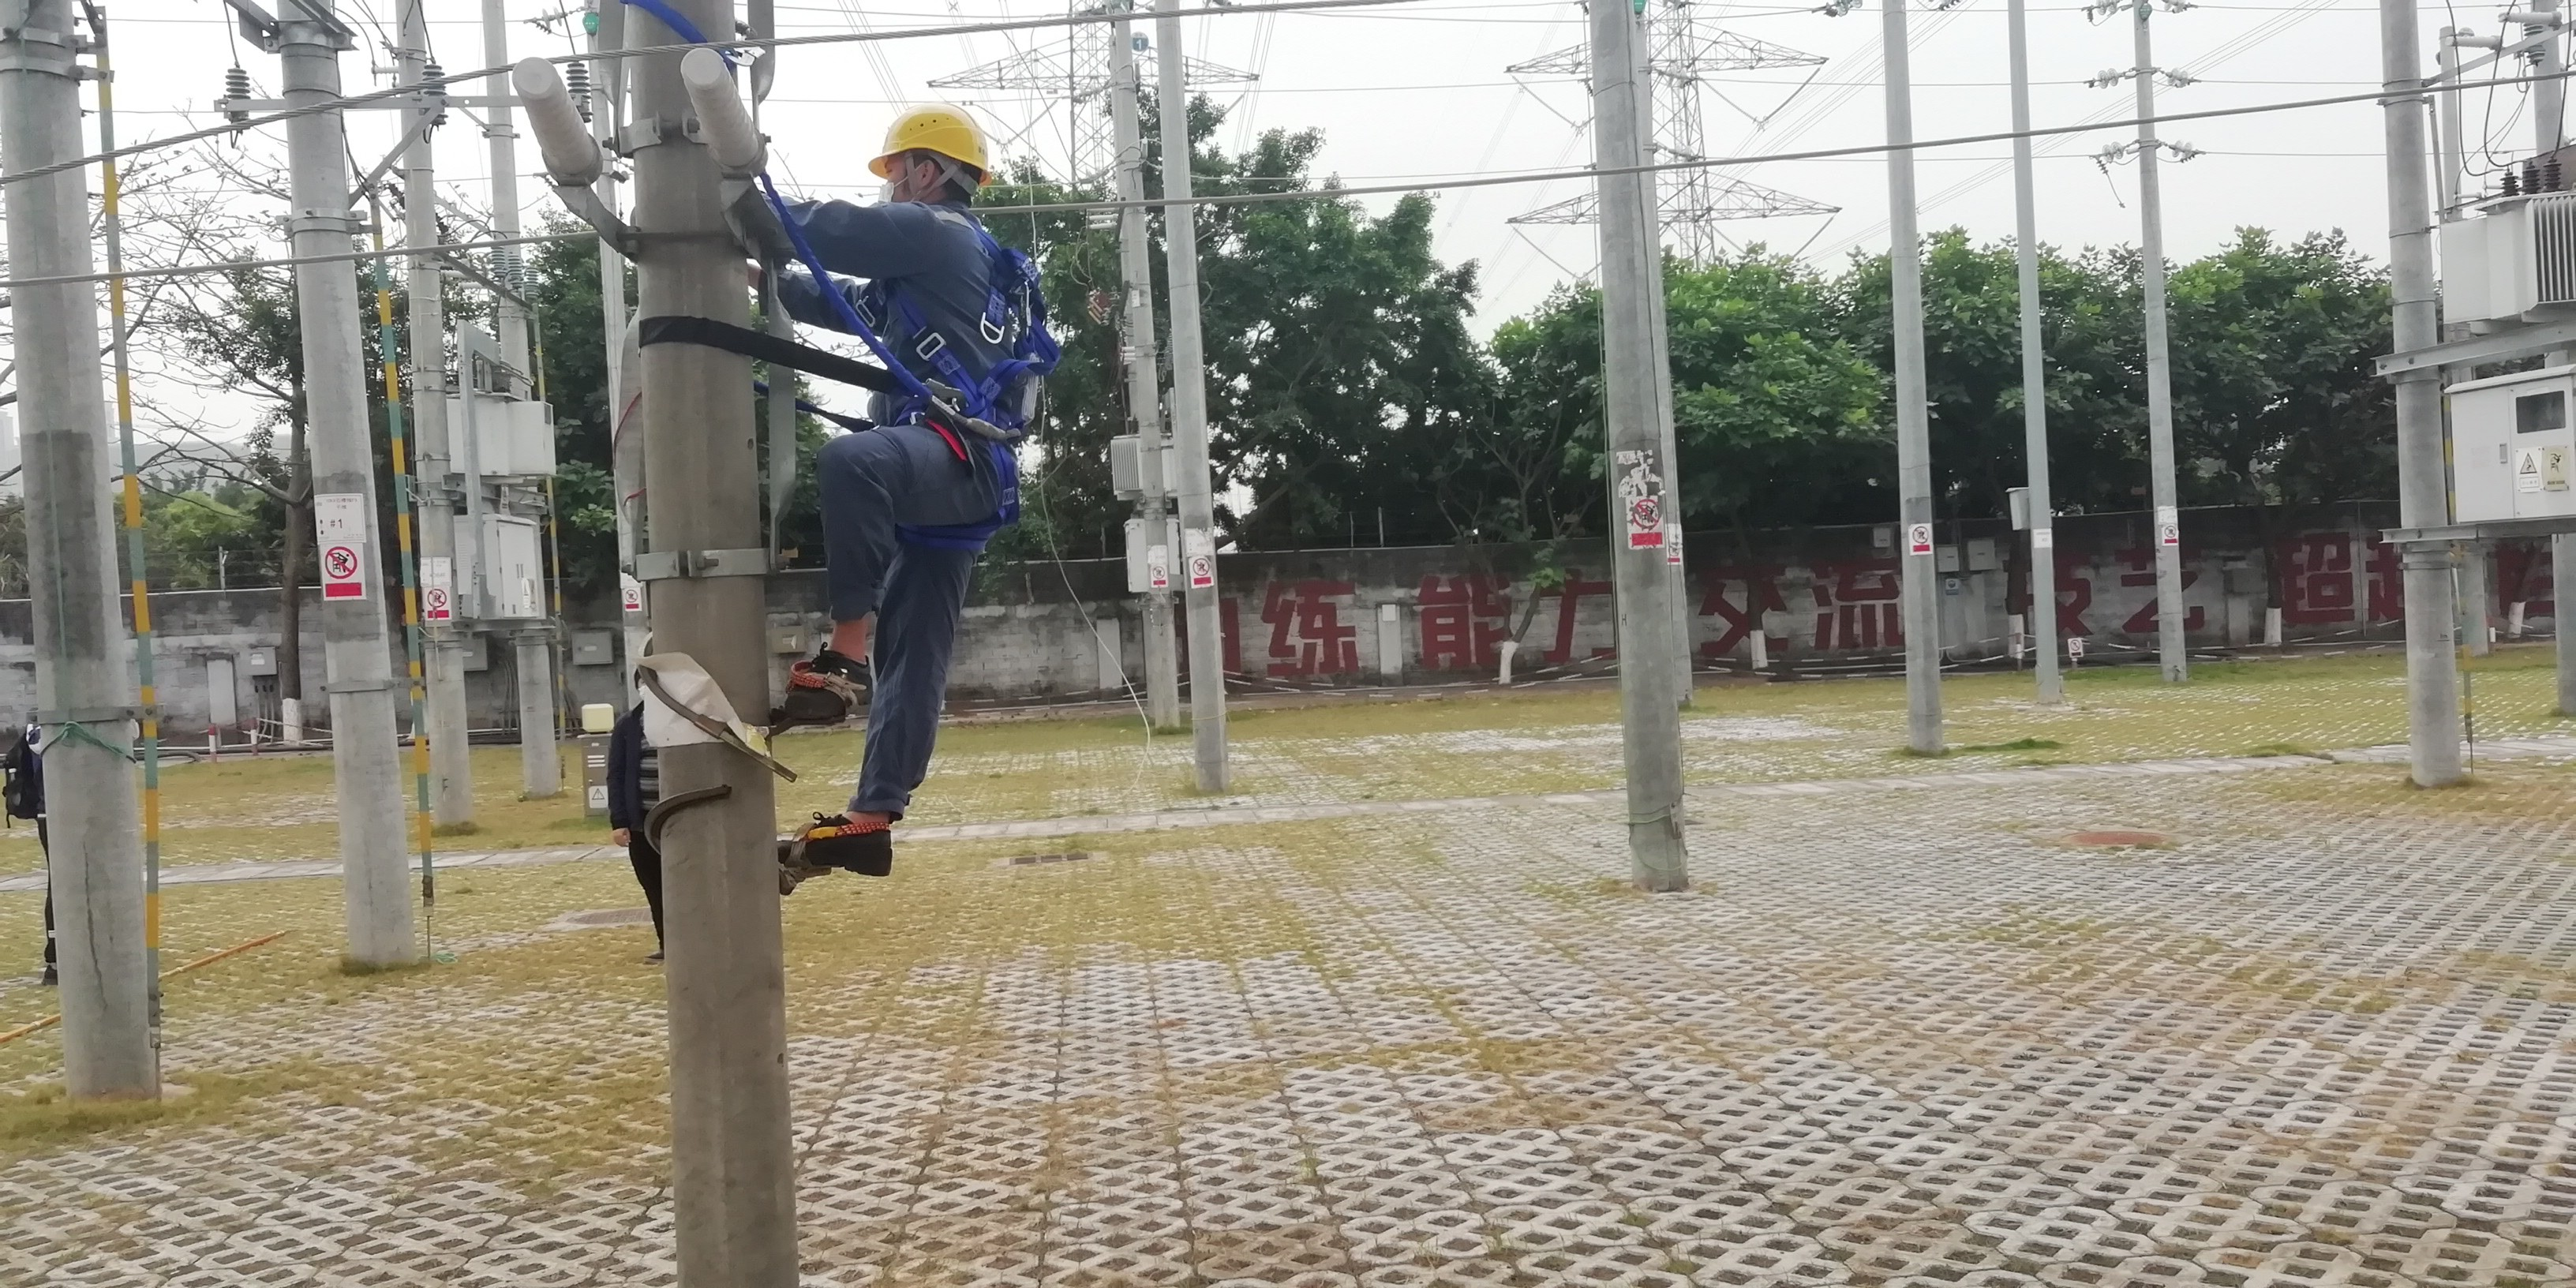downsuit: (816, 432, 1012, 816)
upsuit: (782, 197, 1027, 419)
